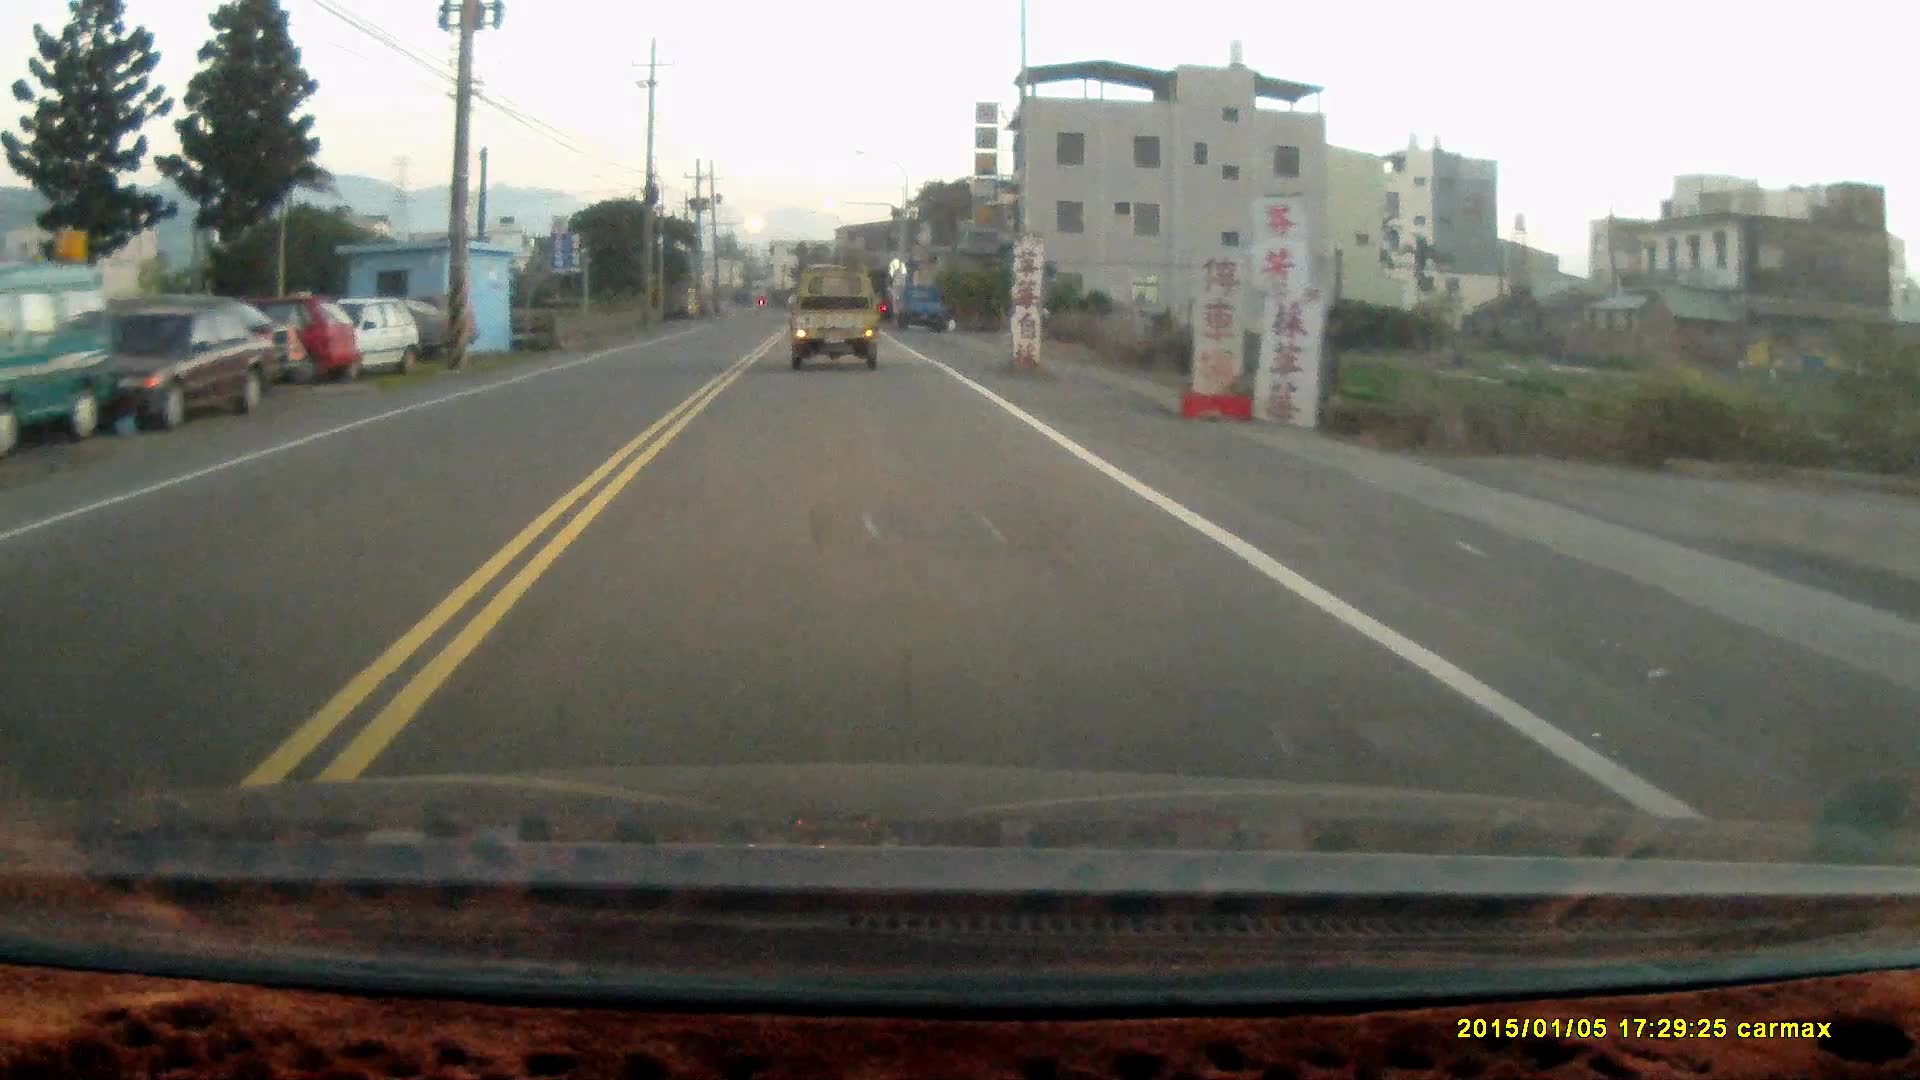vehicle: (40, 291, 291, 433), (1, 268, 117, 436), (198, 295, 361, 381), (790, 270, 885, 375), (303, 299, 421, 377), (899, 285, 953, 336)
